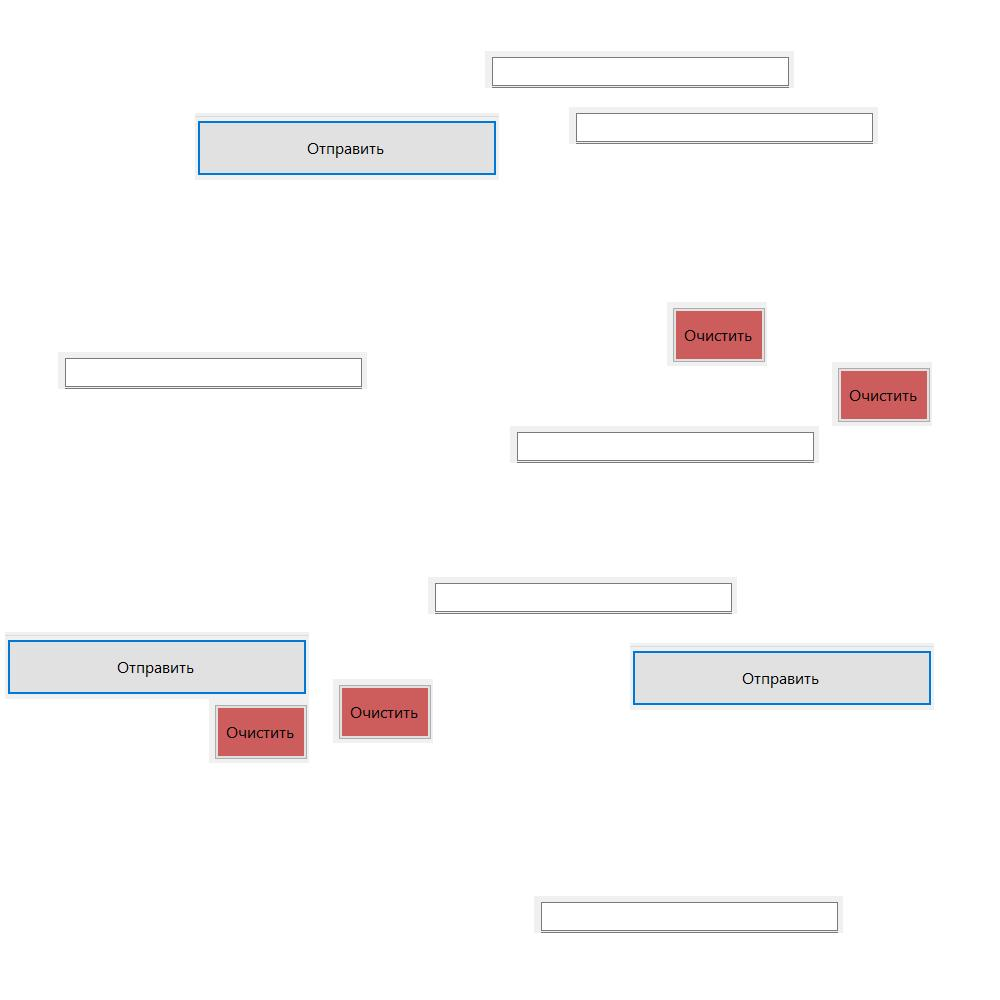Button: (195, 113, 499, 180), (5, 632, 309, 699), (630, 643, 934, 710), (209, 699, 309, 763), (832, 362, 932, 426), (333, 679, 433, 743), (667, 302, 767, 366)
EditText-: (510, 426, 819, 463), (485, 51, 794, 88), (58, 352, 367, 389), (534, 896, 843, 933), (428, 577, 737, 614), (569, 107, 878, 144)
